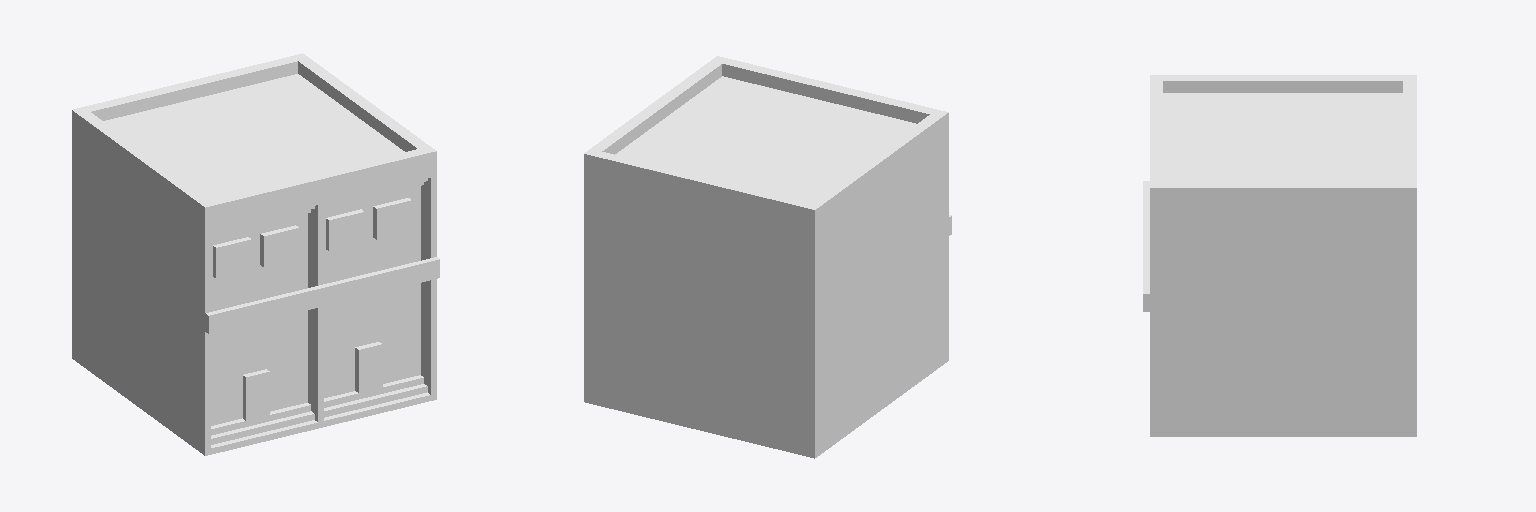
File: Edificio_01.obj
3 views of the same model, side by side, from view 1: azimuth 30°, elevation 25°; view 2: azimuth 150°, elevation 25°; view 3: azimuth 270°, elevation 25° (orthographic).
Parts seen in each view (by area): view 1: object 1; view 2: object 1; view 3: object 1.
Boxes of the visible parts, box(x1,y1,x2,y2) form: object 1: box(72, 53, 439, 455); object 1: box(584, 56, 951, 458); object 1: box(1143, 75, 1416, 436).
Size of the model in its own units: 3.9 by 4 by 4.